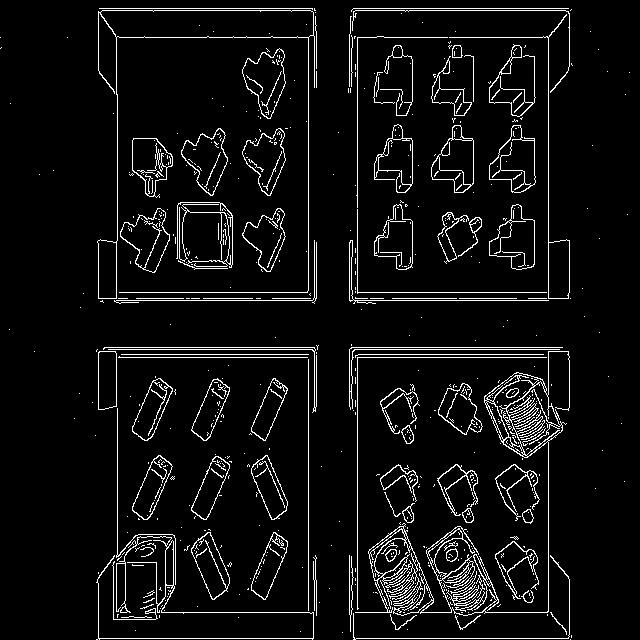Battery: (189, 530, 230, 600), (131, 378, 175, 441), (250, 531, 288, 600), (132, 455, 172, 520), (191, 455, 231, 520), (191, 380, 230, 441), (250, 379, 288, 441), (252, 455, 288, 520)
Pump: (428, 526, 499, 630), (484, 372, 565, 458), (369, 524, 434, 630), (114, 535, 175, 619)
Regulator: (495, 536, 539, 602), (495, 464, 540, 524), (130, 138, 172, 198), (438, 464, 478, 522), (380, 386, 419, 444), (381, 464, 419, 522), (438, 212, 482, 262), (438, 384, 481, 435)
Sensor: (489, 45, 535, 118), (489, 124, 536, 194), (120, 208, 170, 272), (181, 128, 228, 196), (242, 49, 286, 119), (432, 45, 474, 118), (431, 124, 474, 194), (489, 205, 535, 270), (244, 128, 286, 196), (242, 208, 285, 272), (374, 45, 412, 116), (374, 125, 412, 194), (376, 200, 412, 270)
